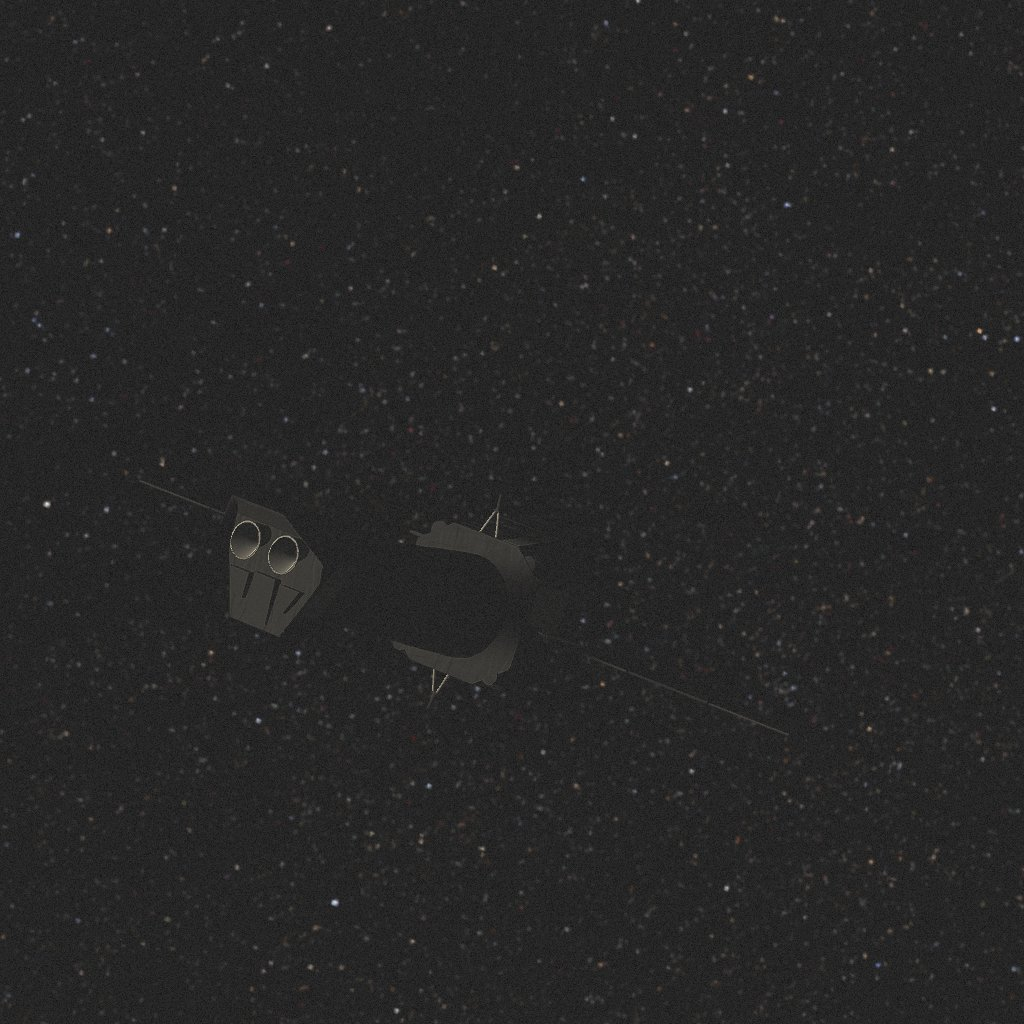xmm_newton: (139, 480, 841, 746)
